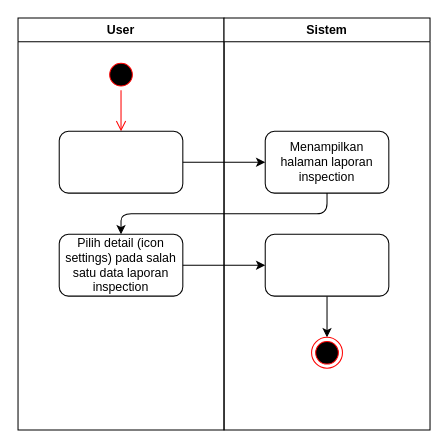
This 448x448 diagram has some shape labels left out. Each missing label, with the box of its shape:
Menampilkan halaman breakdown report: (264, 233, 389, 296)
Pilih fitur laporan inspection: (58, 130, 183, 193)
